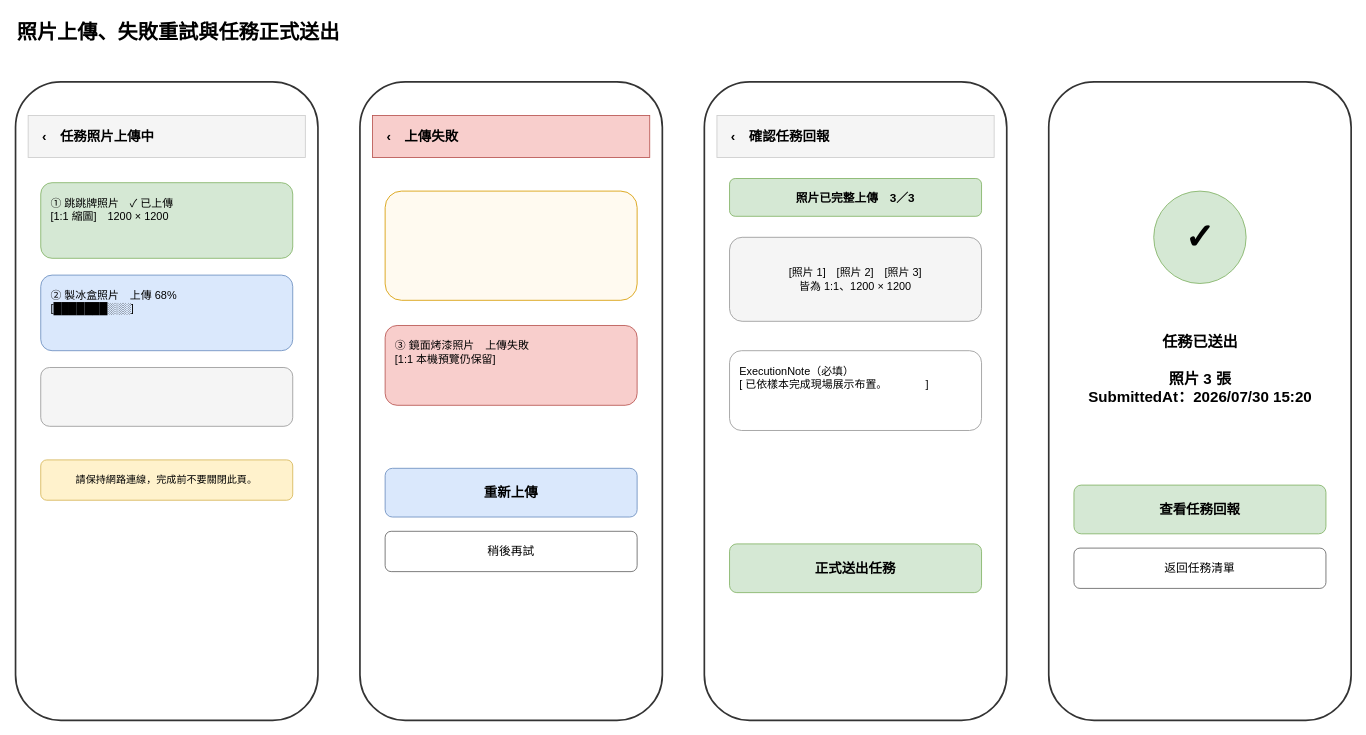
This 1366x735 diagram has some shape labels left out. Each missing label, with the centre of its shape:
③ 鏡面烤漆照片 等待上傳: point 166,396
網路連線中斷 已完成的照片仍保留；尚未成功的照片可重新上傳，不需重新拍攝。: point 510,245
